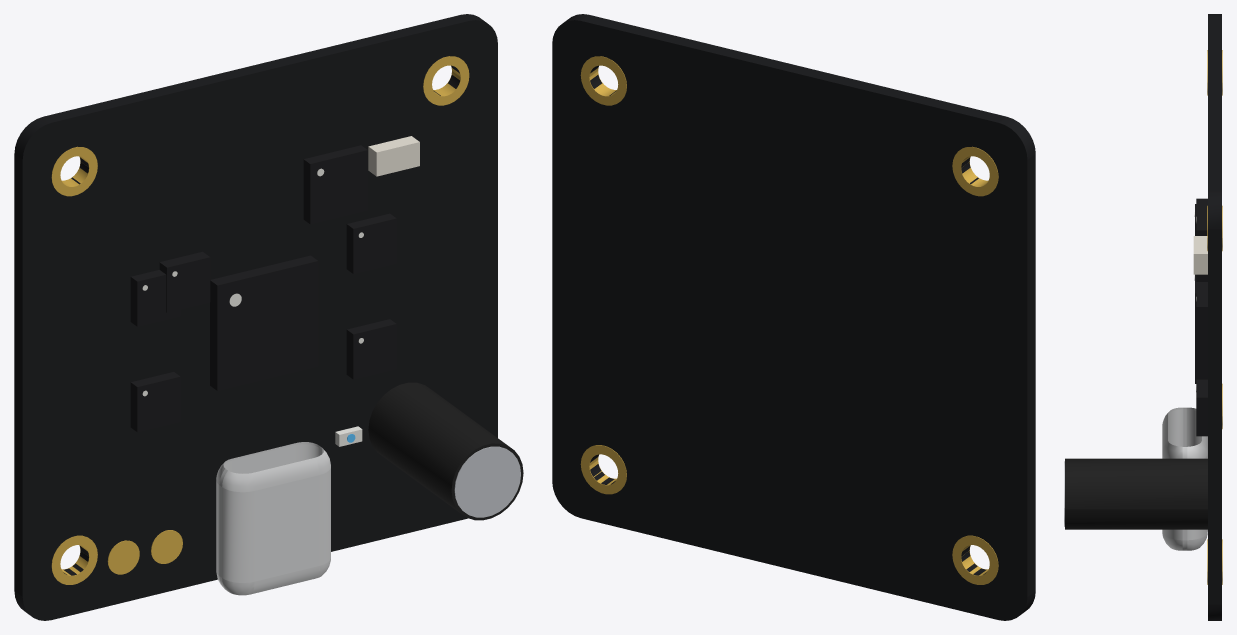
File: betafpv-f722-35a-aio.glb
3 views of the same model, side by side, from view 1: azimuth 30°, elevation 25°; view 2: azimuth 150°, elevation 25°; view 3: azimuth 270°, elevation 25° (orthographic). The views are drawn at different scales.
Parts seen in each view (by area): view 1: board, usb, mcu, capacitor, receiver, capacitor_top, esc_fet_4, esc_fet_1, esc_fet_3, gyro, esc_fet_2, rx_antenna (+5 smaller); view 2: board, hole_2, hole_1, hole_3, hole_4; view 3: capacitor, board, usb, esc_fet_4, esc_fet_1, mcu, rx_antenna, receiver.
Part boxes in pixels (x1=…): board: x1=14, y1=14, x2=497, y2=620; usb: x1=216, y1=442, x2=330, y2=595; mcu: x1=210, y1=255, x2=318, y2=390; capacitor: x1=368, y1=382, x2=523, y2=520; receiver: x1=303, y1=145, x2=367, y2=224; capacitor_top: x1=454, y1=446, x2=520, y2=517; esc_fet_4: x1=346, y1=319, x2=396, y2=379; esc_fet_1: x1=346, y1=213, x2=396, y2=273; esc_fet_3: x1=130, y1=372, x2=180, y2=432; gyro: x1=159, y1=251, x2=210, y2=312; esc_fet_2: x1=130, y1=270, x2=180, y2=326; rx_antenna: x1=368, y1=136, x2=419, y2=176; board: x1=552, y1=14, x2=1035, y2=620; hole_2: x1=952, y1=146, x2=998, y2=196; hole_1: x1=580, y1=56, x2=626, y2=105; hole_3: x1=952, y1=535, x2=998, y2=584; hole_4: x1=580, y1=445, x2=626, y2=494; capacitor: x1=1065, y1=458, x2=1207, y2=529; board: x1=1208, y1=14, x2=1221, y2=620; usb: x1=1162, y1=407, x2=1207, y2=550; esc_fet_4: x1=1196, y1=379, x2=1207, y2=436; esc_fet_1: x1=1196, y1=289, x2=1207, y2=345; mcu: x1=1195, y1=274, x2=1207, y2=383; rx_antenna: x1=1193, y1=236, x2=1207, y2=274; receiver: x1=1196, y1=206, x2=1207, y2=281.
Bounding box in the file's own units: 33 × 33.04 × 11.08.
